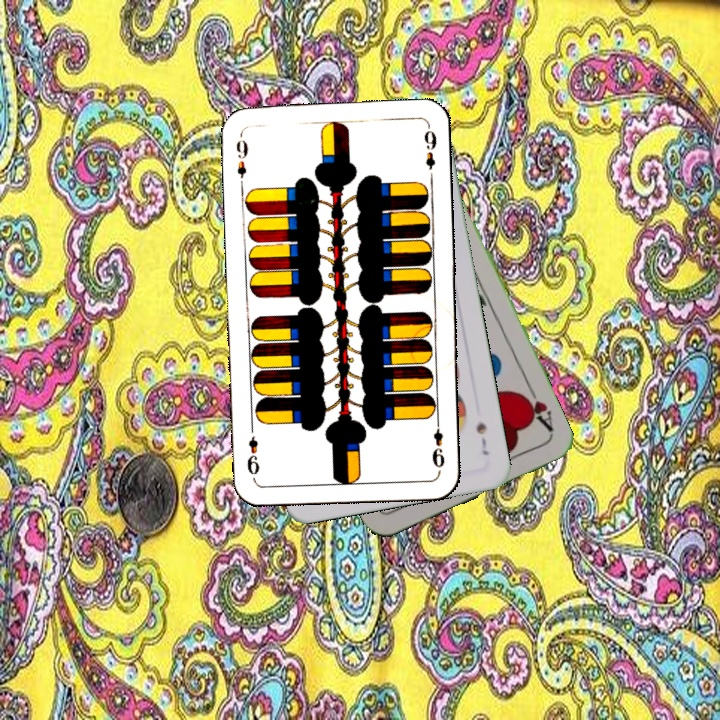E9: (428, 414, 448, 470), (232, 136, 251, 190)
HA: (516, 380, 556, 435)
S7: (472, 417, 492, 458)
